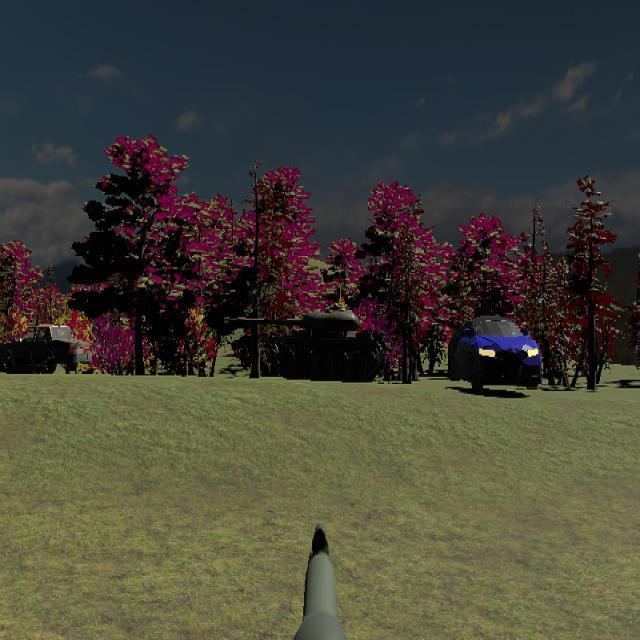Tank: (225, 306, 389, 382)
car: (447, 316, 542, 391), (0, 324, 94, 375)
